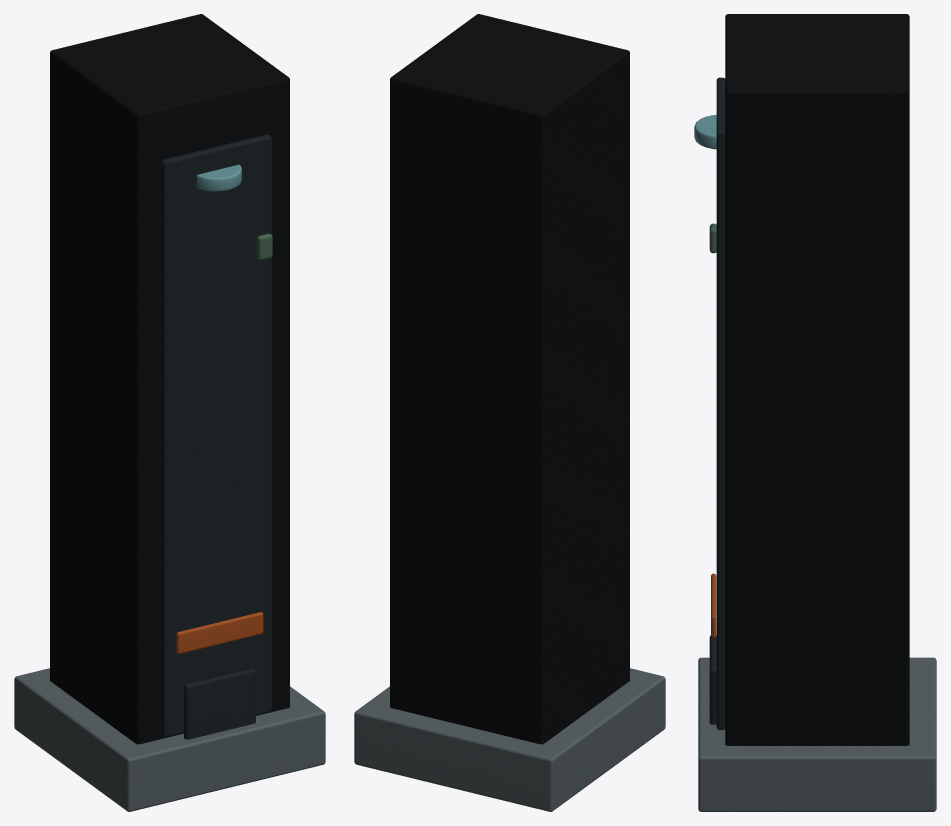
Rendered from SecurityPillar.fbx.
3 views of the same model, side by side, from view 1: azimuth 30°, elevation 25°; view 2: azimuth 150°, elevation 25°; view 3: azimuth 270°, elevation 25° (orthographic). The views are drawn at different scales.
Parts seen in each view (by area): view 1: SecurityPillar_Mesh; view 2: SecurityPillar_Mesh; view 3: SecurityPillar_Mesh.
Part boxes in pixels (left/top/right/bottom): SecurityPillar_Mesh: left=14, top=14, right=325, bottom=811; SecurityPillar_Mesh: left=354, top=14, right=665, bottom=811; SecurityPillar_Mesh: left=694, top=14, right=936, bottom=811.
Size of the model in its own units: 62 by 204 by 63.
6 materials, 6 textured.
